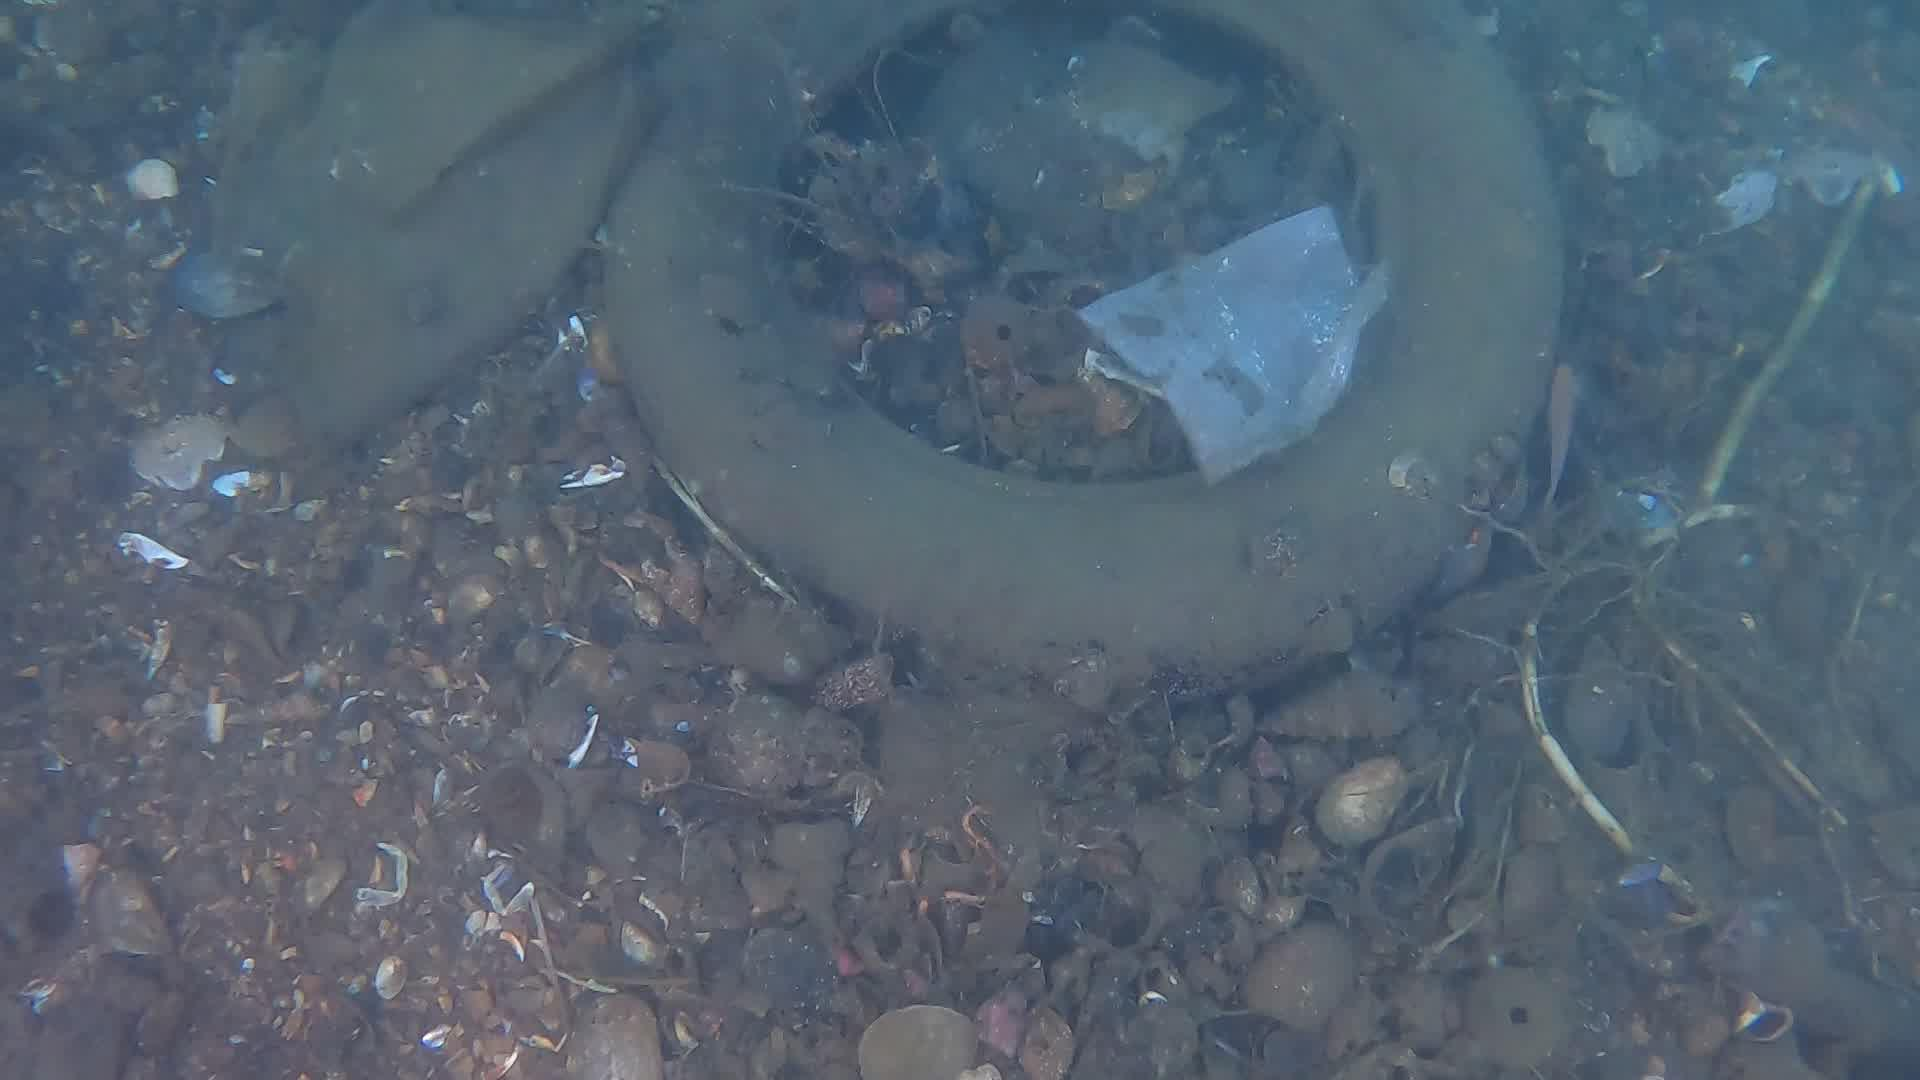tire: (589, 7, 1573, 694)
